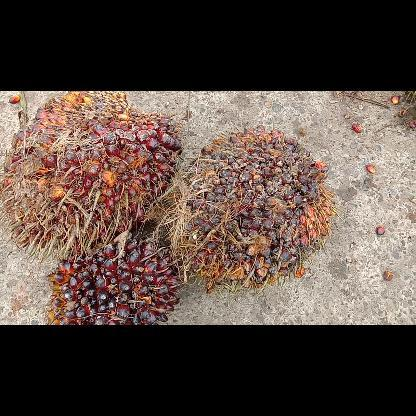Kurang masak: (183, 124, 334, 292), (43, 232, 181, 324)
TBS masak: (2, 91, 182, 256)
